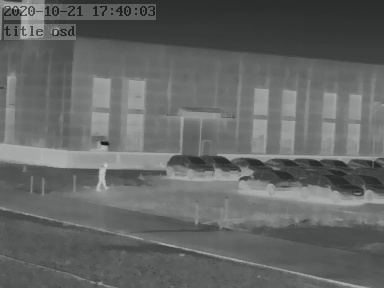person: (95, 162, 110, 193)
vehicle: (300, 175, 366, 201), (239, 169, 304, 192), (164, 153, 213, 179), (203, 153, 242, 177), (350, 173, 382, 200), (232, 155, 270, 171), (261, 155, 297, 170), (347, 155, 380, 170), (295, 155, 325, 169), (317, 156, 347, 170)
